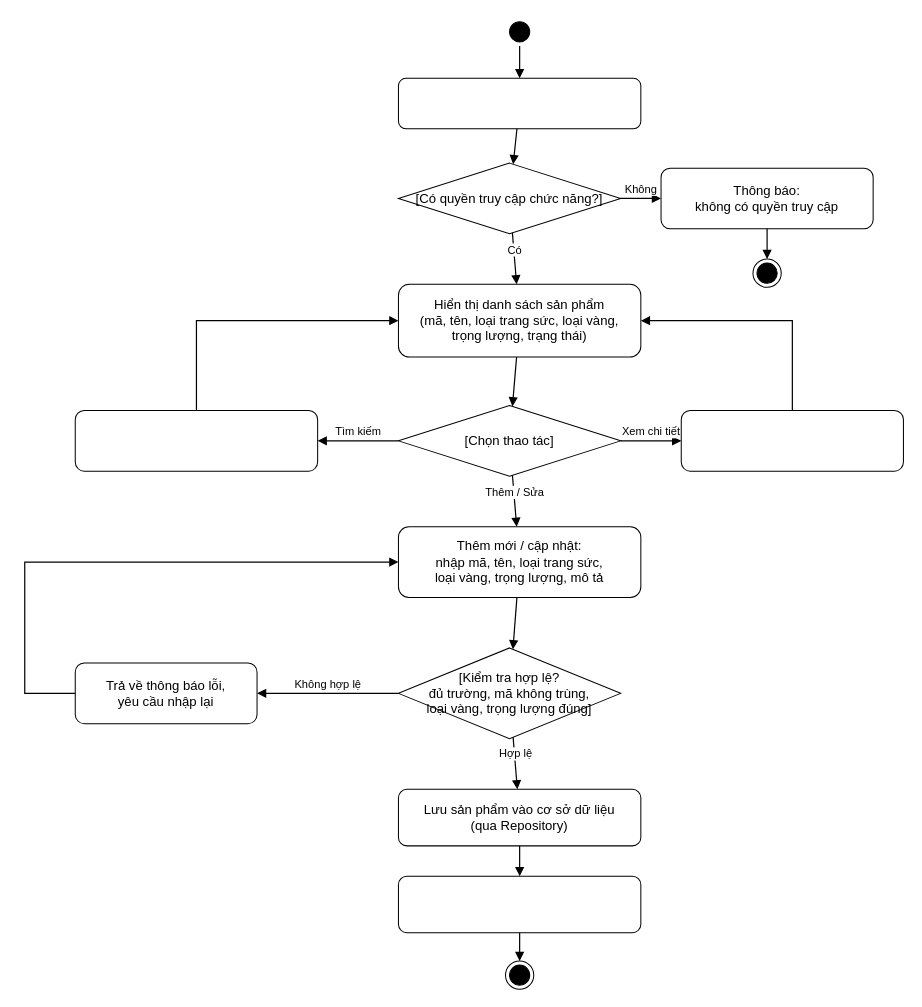
This 922x1007 diagram has some shape labels left out. The box of each missing label's shape, as (x1, y1, x2, y2) in pixels:
Cập nhật danh sách & thông báo kết quả: (397, 875, 641, 933)
Mở màn hình quản lý sản phẩm: (397, 77, 641, 129)
Tìm kiếm / lọc sản phẩm (mã, tên, loại, trạng thái): (74, 410, 318, 471)
Xem chi tiết sản phẩm: (680, 410, 903, 471)
